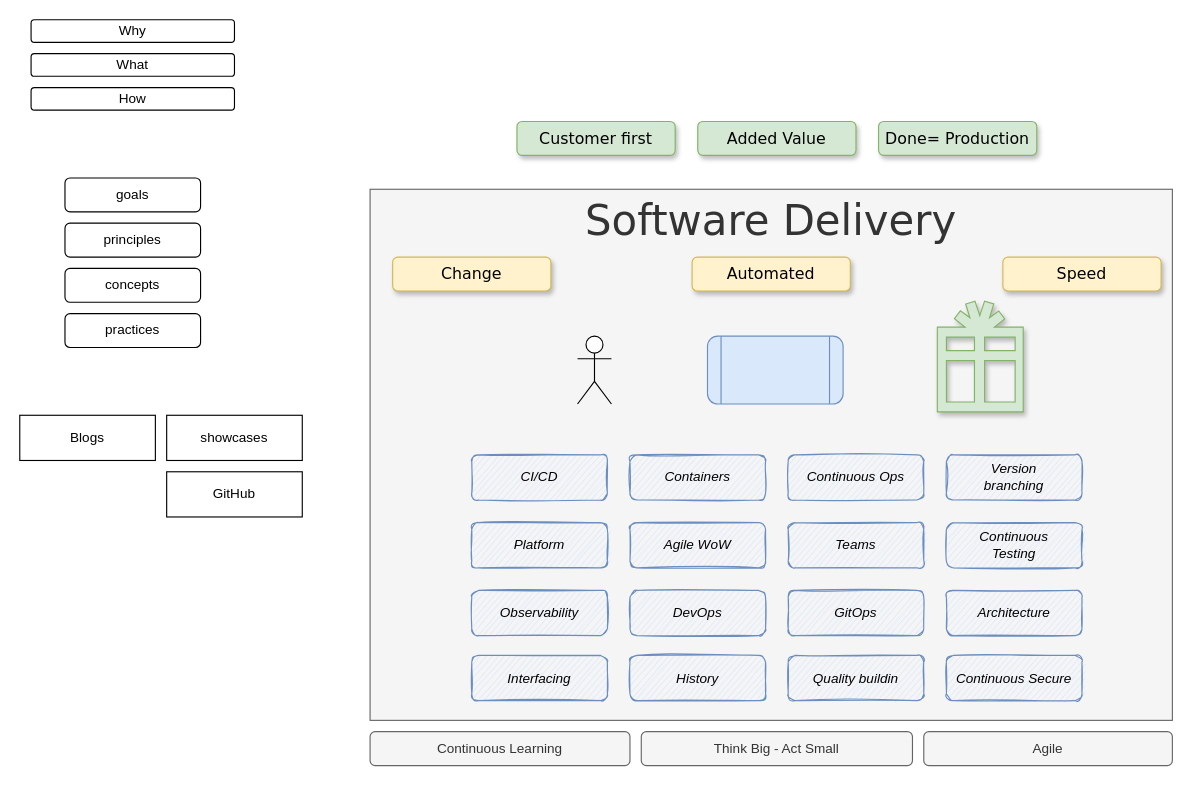
Image size: 1192x785. Some labels were removed from this diagram. The centre of each missing label's shape, as x and y in pixels:
"Customer" goes at point (593, 369).
"Process" goes at point (774, 369).
